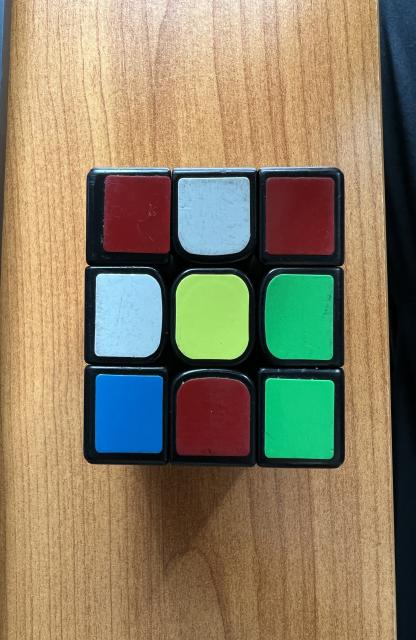Blue: (95, 374, 164, 454)
Green: (264, 274, 334, 360), (264, 379, 335, 459)
Red: (177, 378, 250, 456), (265, 178, 335, 255), (103, 175, 171, 254)
White: (94, 274, 162, 358), (178, 176, 250, 255)
Yellow: (176, 274, 249, 360)
